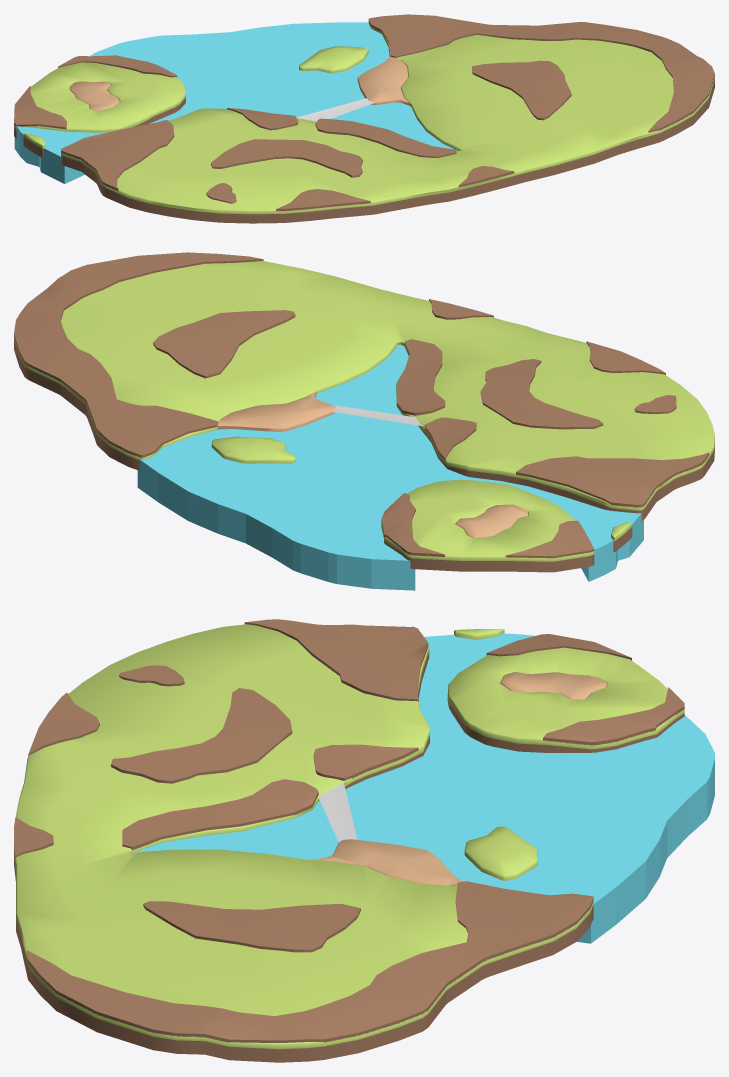
File: environment_final.fbx
3 views of the same model, one above another, from view 1: azimuth 30°, elevation 25°; view 2: azimuth 150°, elevation 25°; view 3: azimuth 270°, elevation 25° (orthographic). The views are drawn at different scales.
Parts seen in each view (by area): view 1: walkable_grass, non-walkable, water, cardboard_rim, walkable_sand, camp_connect; view 2: walkable_grass, water, non-walkable, cardboard_rim, walkable_sand, camp_connect; view 3: walkable_grass, non-walkable, water, cardboard_rim, walkable_sand, camp_connect.
Part boxes in pixels (x1,y1,x2,y2): walkable_grass: (14, 22, 714, 214); non-walkable: (14, 14, 714, 211); water: (14, 22, 457, 183); cardboard_rim: (14, 79, 714, 223); walkable_sand: (70, 56, 409, 110); camp_connect: (297, 98, 376, 121); walkable_grass: (14, 261, 714, 561); water: (137, 345, 643, 590); non-walkable: (14, 252, 709, 558); cardboard_rim: (14, 340, 714, 572); walkable_sand: (217, 391, 528, 537); camp_connect: (331, 405, 423, 426); walkable_grass: (14, 624, 684, 1049); non-walkable: (14, 619, 684, 1042); water: (132, 633, 714, 943); cardboard_rim: (14, 652, 684, 1062); walkable_sand: (313, 672, 606, 885); camp_connect: (318, 782, 357, 841).
Size of the model in its own units: 10000 by 598 by 7086.
